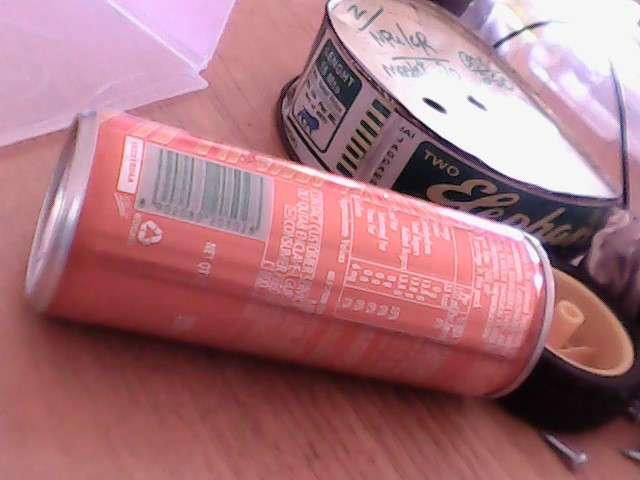Metal: (20, 111, 536, 376)
